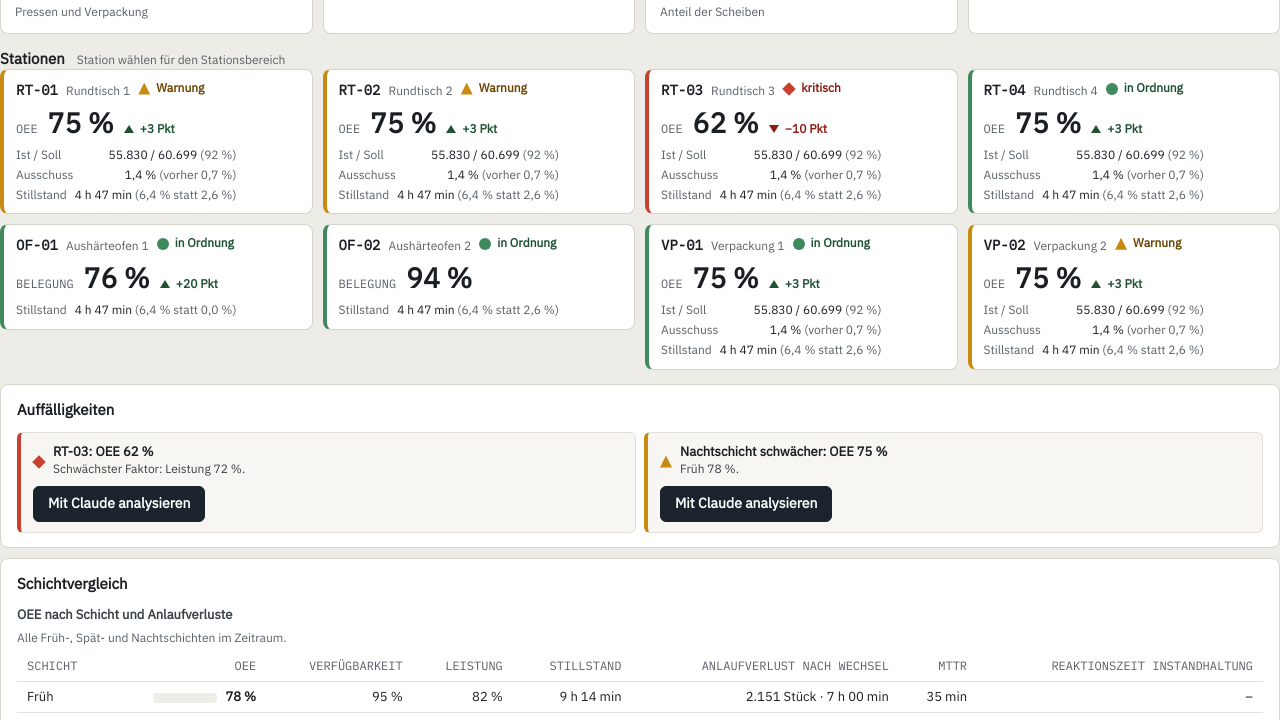
Test: Stationsdetail › zeigt bei Öfen die Belegung und bei Pressen keinen Ausschuss ohne Daten
Click the button with class "mc-tile" that starts with "OF-01" at (37, 245), box [0, 224, 312, 330]
(page scrolled)
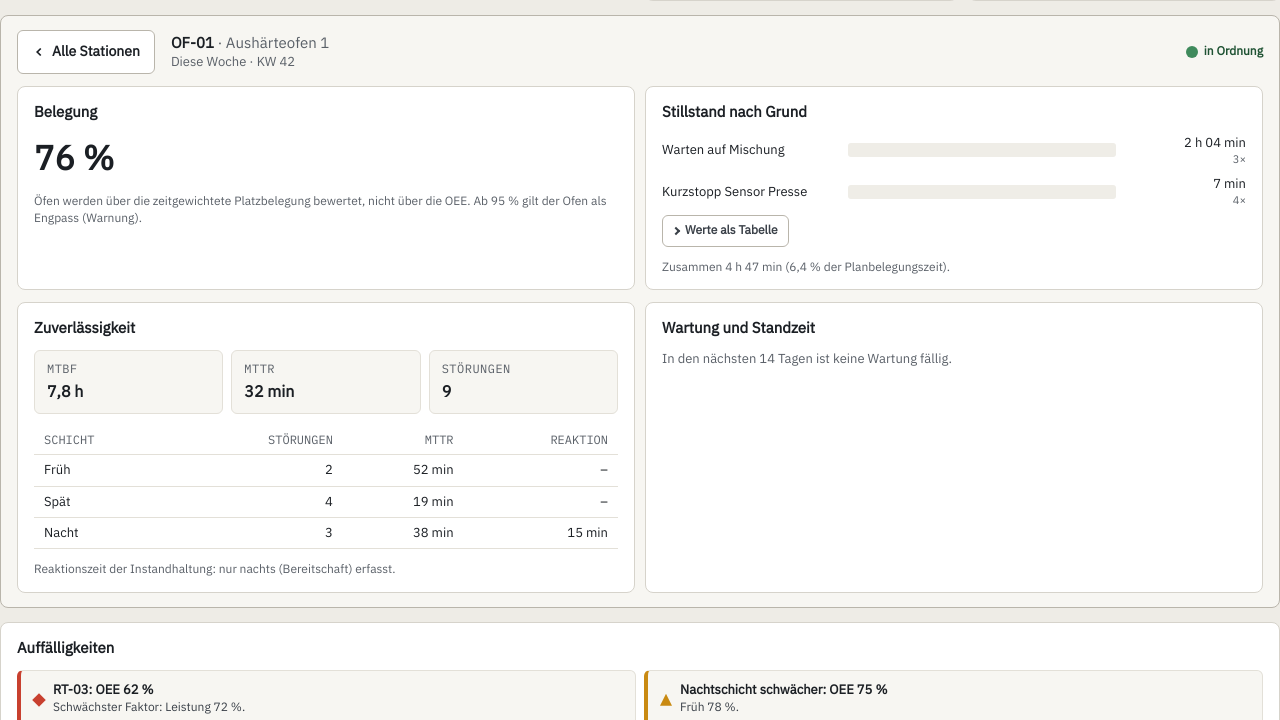
Check: the element with class "mc-detail" shows "Belegung", box [34, 102, 97, 120]
Check: the element with class "mc-detail" shows "76 %", box [34, 134, 114, 178]
